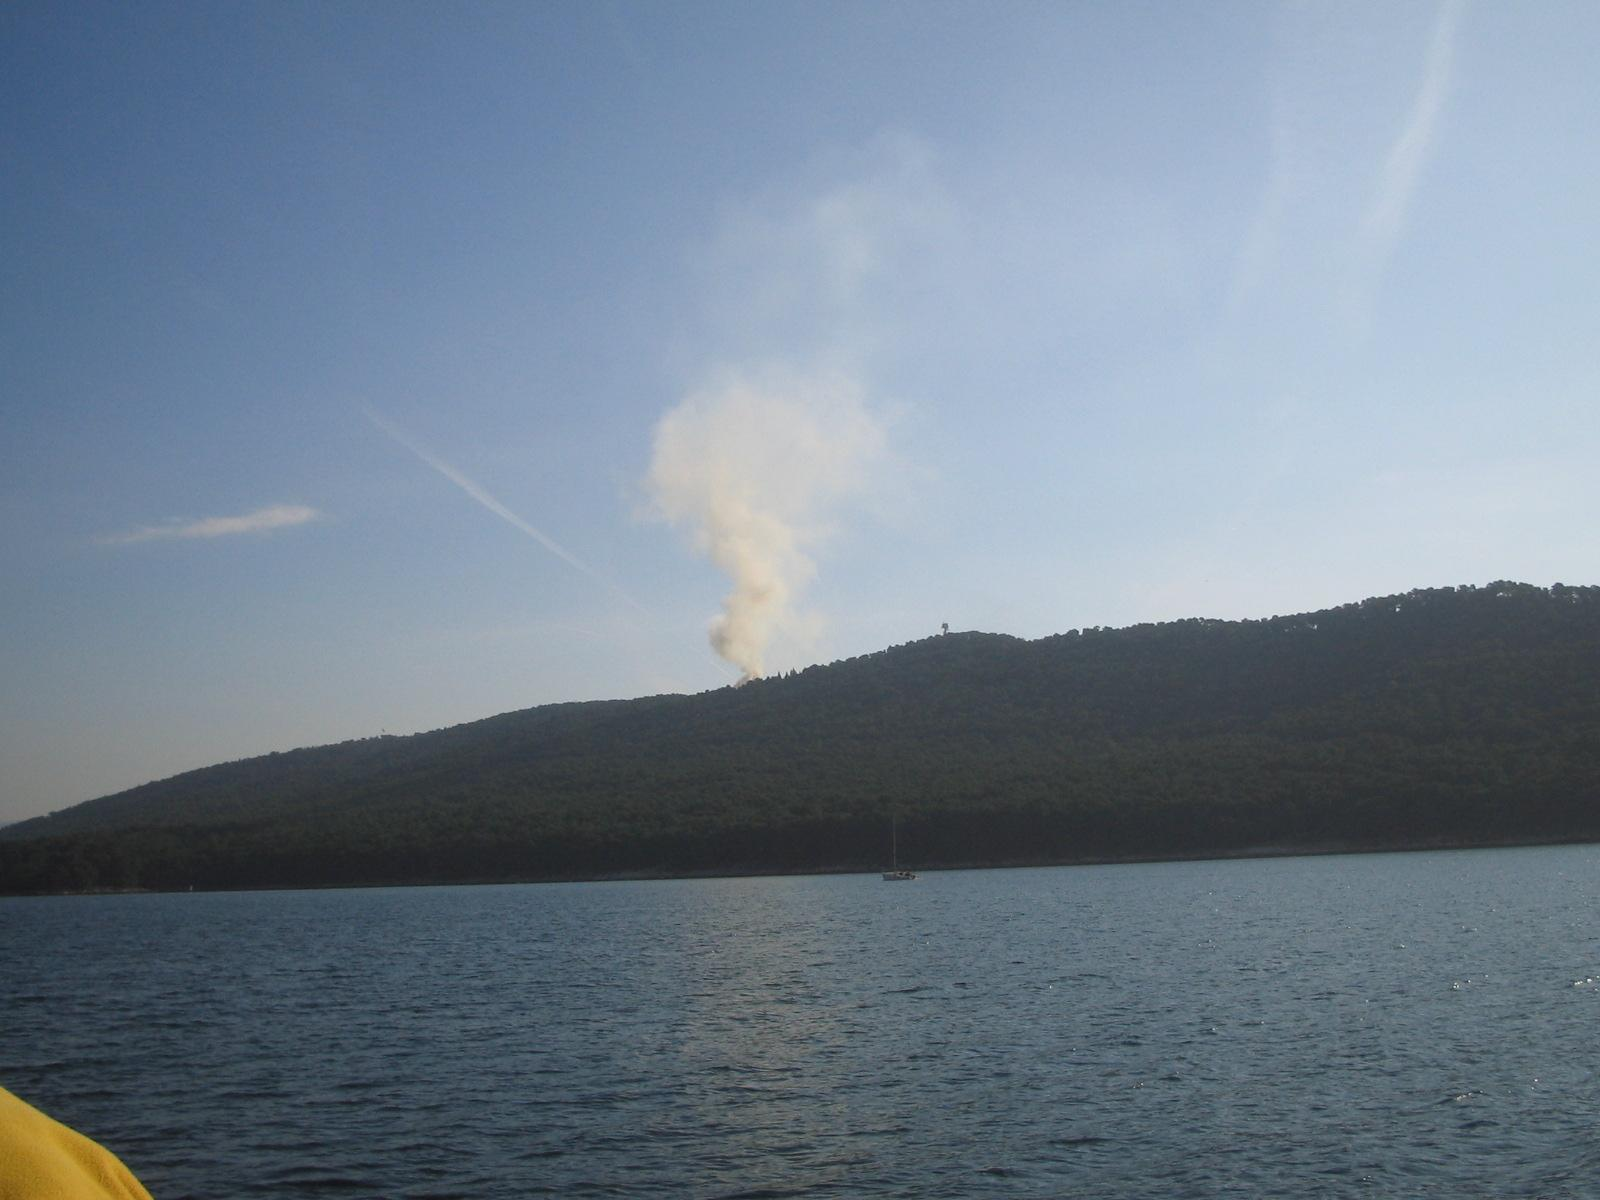Smoke: (619, 131, 878, 677)
